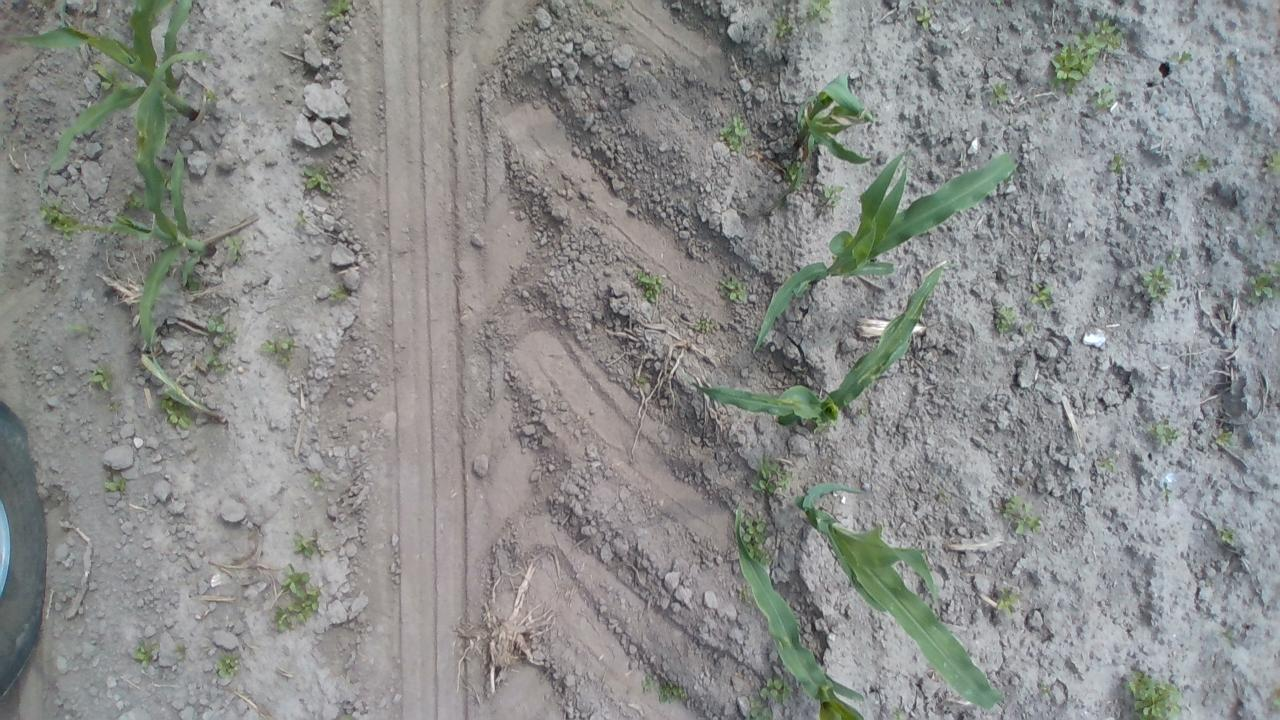Maize: (752, 148, 1019, 354), (794, 482, 1004, 712), (692, 266, 942, 432), (0, 0, 200, 200), (103, 49, 220, 385), (731, 500, 868, 720), (766, 70, 874, 214), (136, 327, 228, 425)
Weeds: (1047, 20, 1124, 97), (274, 563, 320, 632), (1124, 670, 1184, 720), (744, 677, 794, 720), (740, 511, 776, 567), (38, 199, 80, 243), (751, 456, 792, 496), (157, 387, 193, 431), (642, 670, 688, 704), (1004, 496, 1042, 536), (719, 111, 753, 155), (1247, 260, 1280, 304), (1139, 262, 1173, 302), (262, 334, 298, 366), (90, 60, 128, 90), (302, 164, 336, 194), (1024, 280, 1054, 312), (634, 271, 664, 303), (1143, 420, 1179, 446), (718, 272, 748, 303), (319, 0, 354, 25), (130, 639, 160, 668), (207, 318, 240, 344), (214, 652, 242, 682), (1086, 82, 1116, 110), (292, 529, 318, 560), (994, 586, 1020, 616), (222, 234, 248, 264), (783, 158, 807, 190), (768, 14, 799, 38), (994, 305, 1017, 336), (88, 366, 114, 392), (806, 0, 832, 23), (913, 6, 933, 34), (822, 182, 844, 207), (1189, 152, 1213, 174), (990, 79, 1010, 104), (102, 474, 128, 493), (1212, 428, 1235, 448), (327, 282, 348, 303), (1094, 454, 1116, 474), (1107, 154, 1127, 176), (126, 190, 144, 212), (692, 318, 716, 334), (1265, 149, 1280, 174), (208, 354, 225, 376), (63, 320, 82, 338), (736, 583, 754, 601), (1171, 50, 1192, 64), (1269, 686, 1280, 710), (1218, 528, 1234, 544), (1252, 225, 1268, 240), (307, 472, 320, 489), (202, 88, 216, 103), (188, 278, 200, 295), (1022, 320, 1034, 334), (1038, 680, 1050, 694), (1222, 629, 1234, 642), (776, 194, 786, 209), (174, 644, 186, 656), (894, 709, 905, 720), (344, 709, 353, 720), (294, 216, 305, 225), (931, 0, 944, 7), (857, 407, 867, 416), (1166, 255, 1176, 264), (638, 376, 648, 384), (994, 0, 1004, 8), (1162, 488, 1169, 496)
